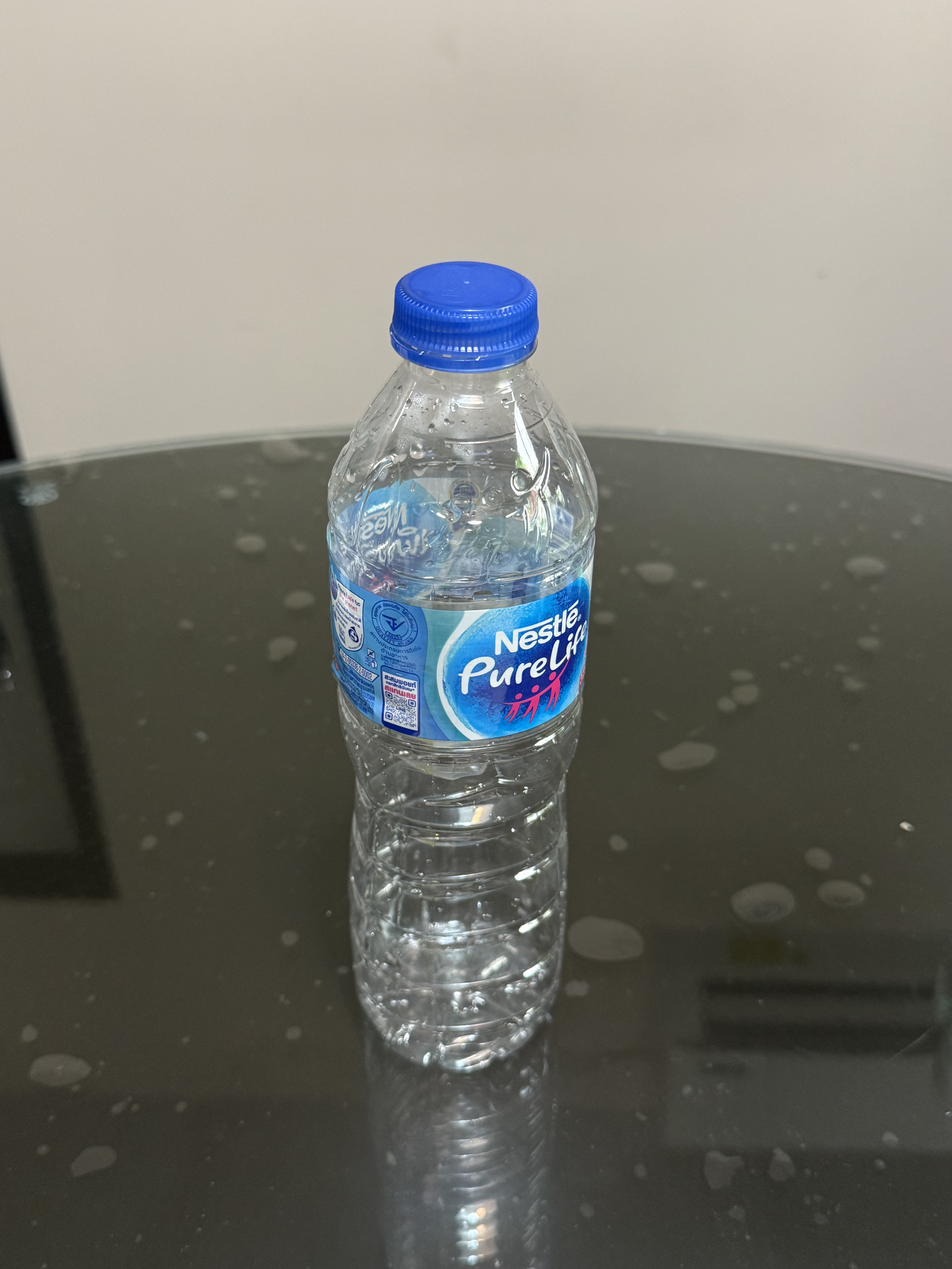closed_cap: (387, 257, 540, 371)
